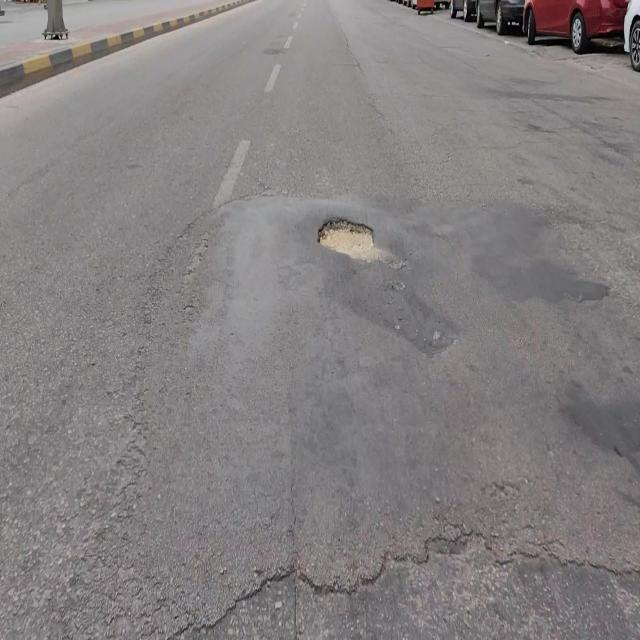Potholes: (317, 215, 375, 259)
